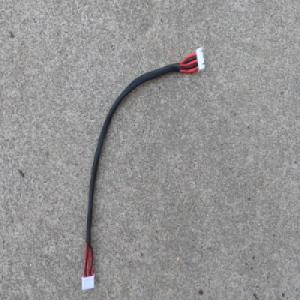Wire: (80, 43, 207, 291)
